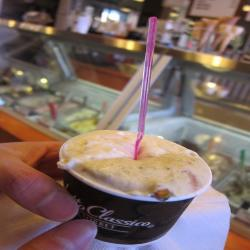icecream: (58, 122, 213, 209)
